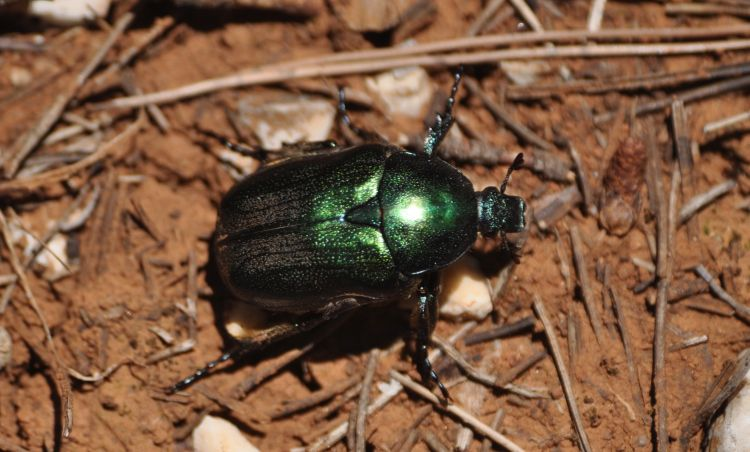Protaetia_angustata_angustata: (160, 59, 531, 406)
